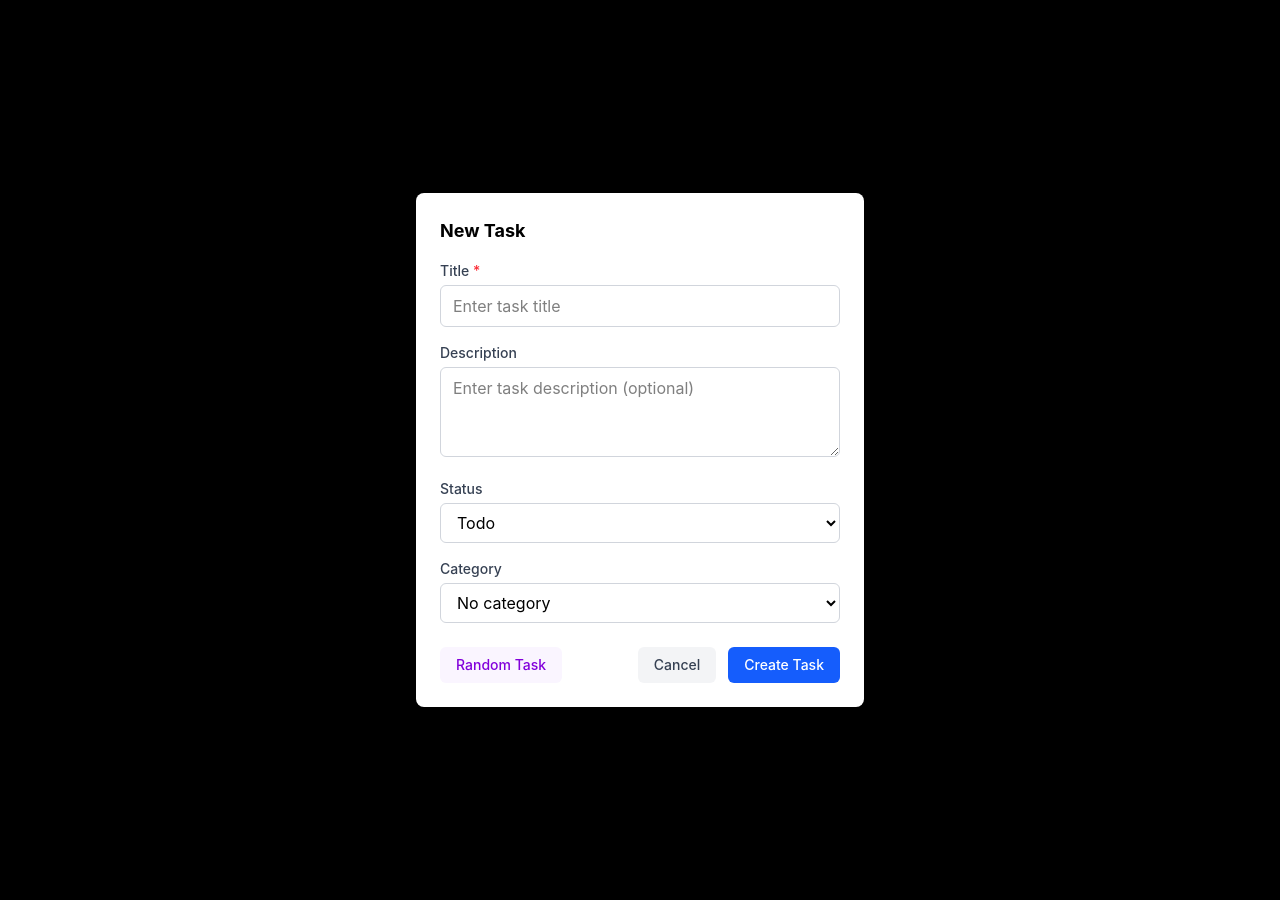
Test: TaskForm › shows validation error when title is empty
Click the button "Create Task": (784, 665) [728,647,840,683]
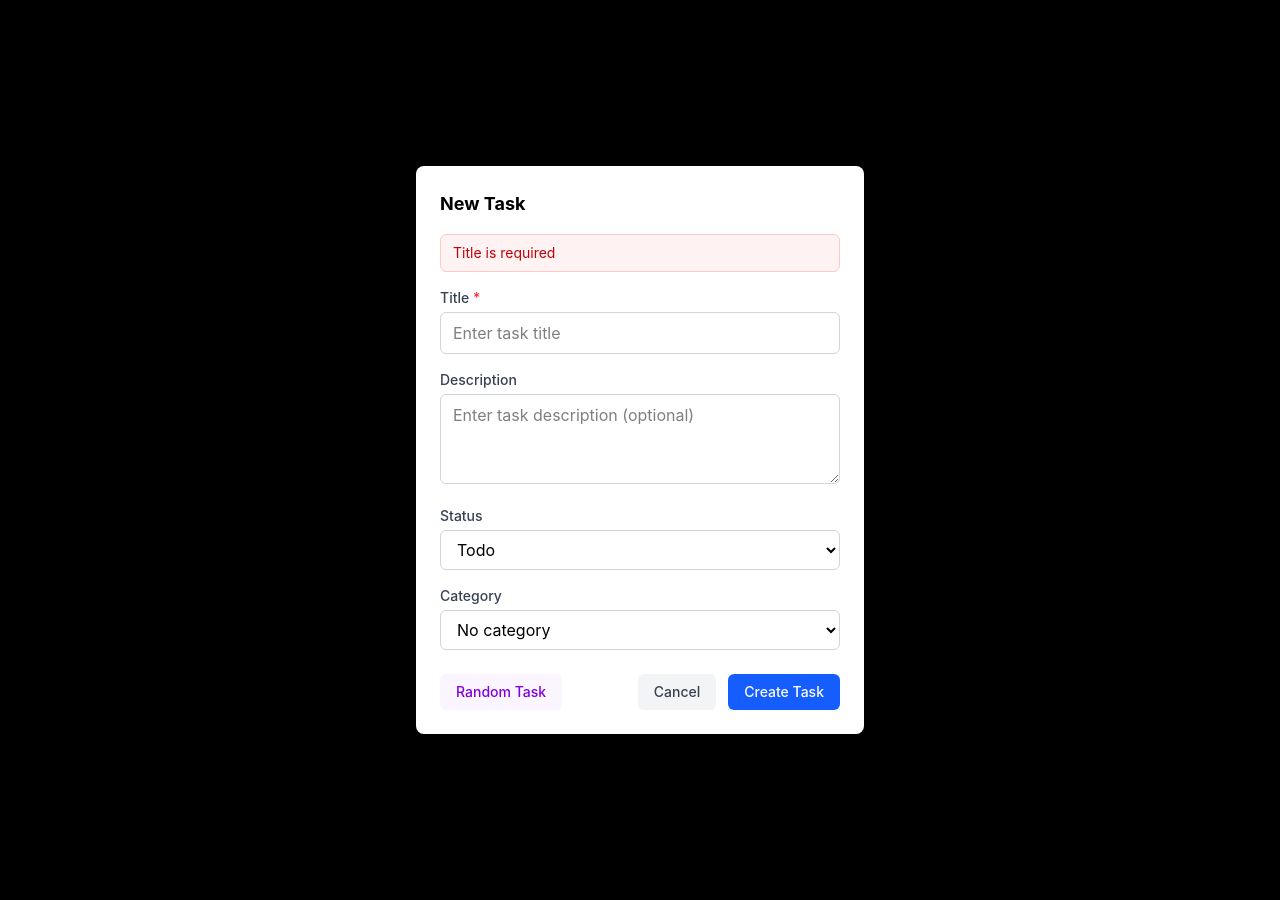
Now the text "Title is required" is shown, box [440,234,840,272]
